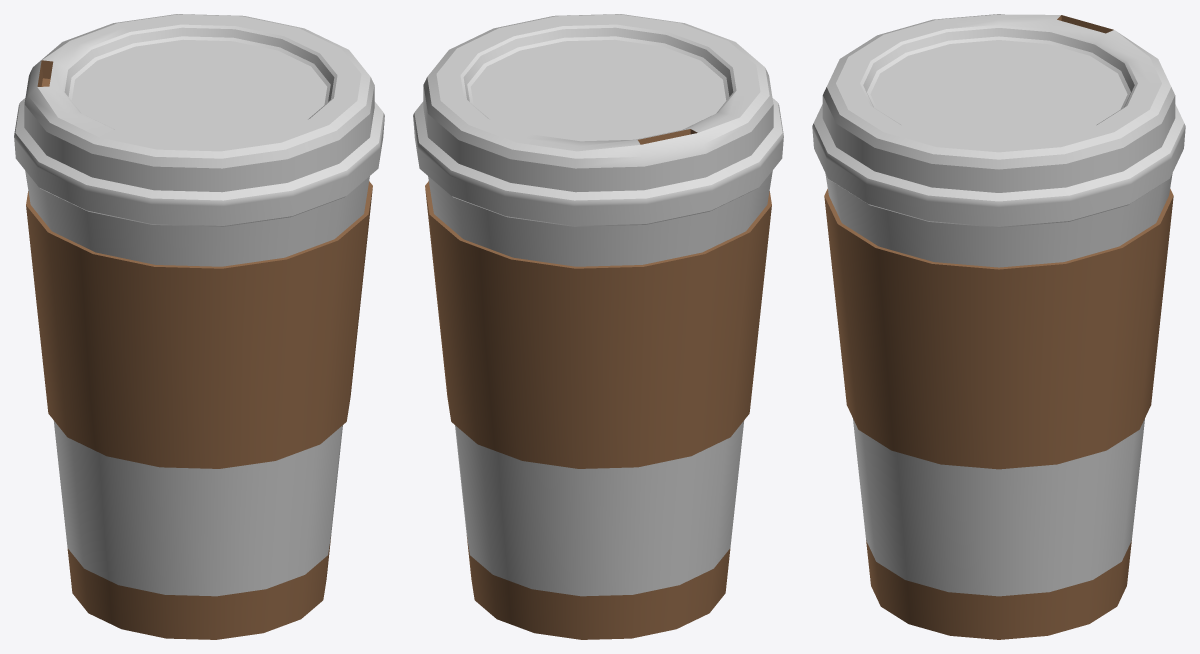
The model's file is coffee_cup_lidded.fbx.
3 renders of one model, left to right at view 1: azimuth 30°, elevation 25°; view 2: azimuth 150°, elevation 25°; view 3: azimuth 270°, elevation 25°, orthographic.
Parts seen in each view (by area): view 1: CoffeeCup; view 2: CoffeeCup; view 3: CoffeeCup.
Part boxes in pixels (x1=…): CoffeeCup: x1=14, y1=14, x2=384, y2=639; CoffeeCup: x1=413, y1=14, x2=783, y2=639; CoffeeCup: x1=812, y1=14, x2=1185, y2=639.
Bounding box in the file's own units: 45.49 × 68.18 × 45.49.
